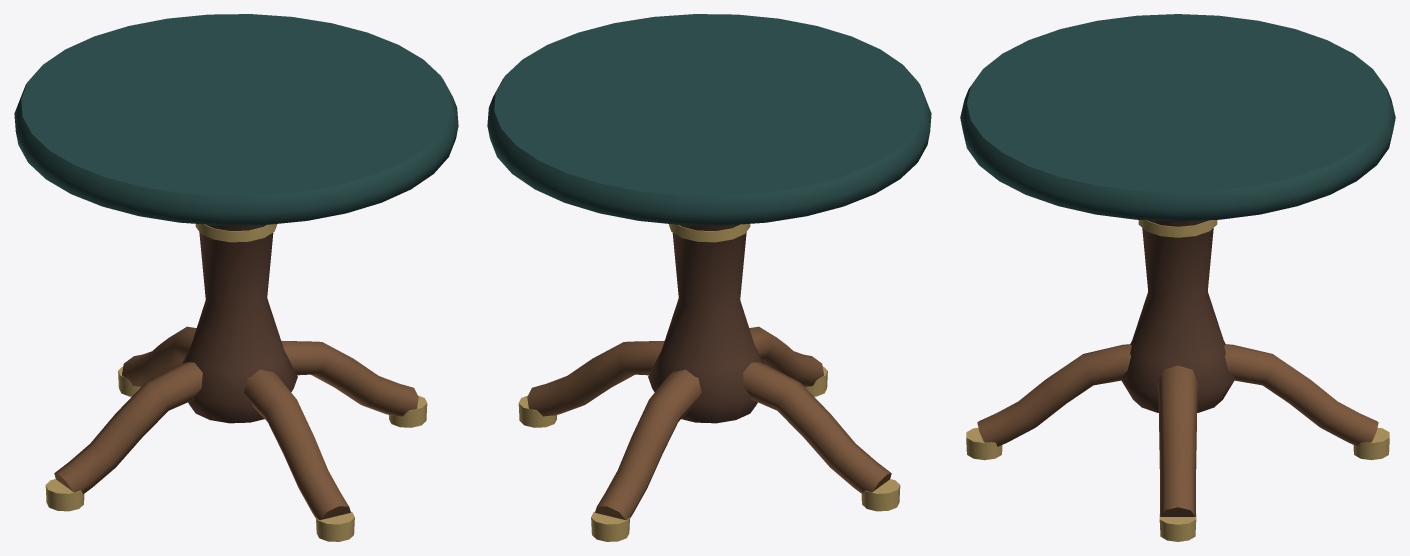
Rendered from rpg-mansion-piano-stool-01.glb.
The picture shows the model from 3 angles, left to right: view 1: azimuth 30°, elevation 25°; view 2: azimuth 150°, elevation 25°; view 3: azimuth 270°, elevation 25°; orthographic projection. The views are drawn at different scales.
Visible parts, largest first — view 1: rpg-mansion-piano-stool-01; view 2: rpg-mansion-piano-stool-01; view 3: rpg-mansion-piano-stool-01.
Part boxes in pixels (x1,y1,x2,y2): rpg-mansion-piano-stool-01: (14, 14, 458, 541); rpg-mansion-piano-stool-01: (487, 14, 931, 541); rpg-mansion-piano-stool-01: (960, 14, 1395, 541).
Size of the model in its own units: 0.52 by 0.46 by 0.52.
